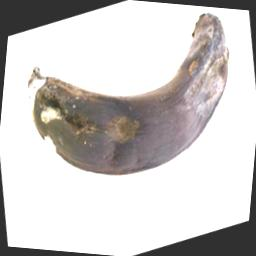Banana Rotten: (5, 0, 256, 194)
